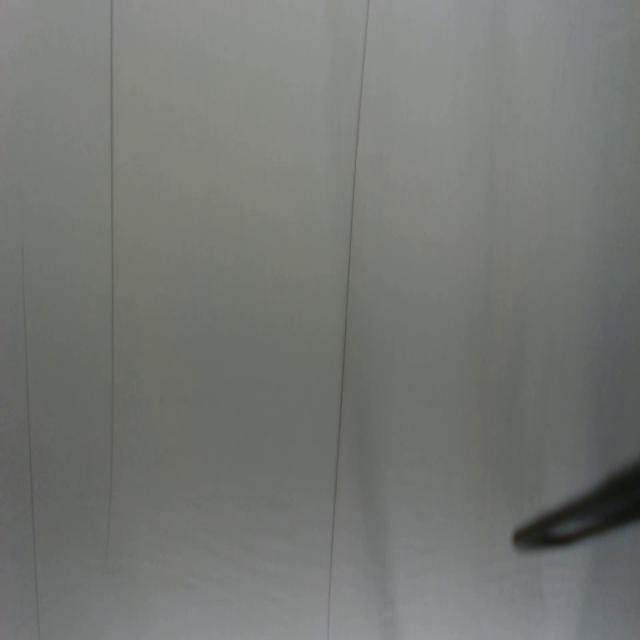crease: (326, 0, 372, 640), (19, 234, 44, 640), (103, 0, 118, 564)
